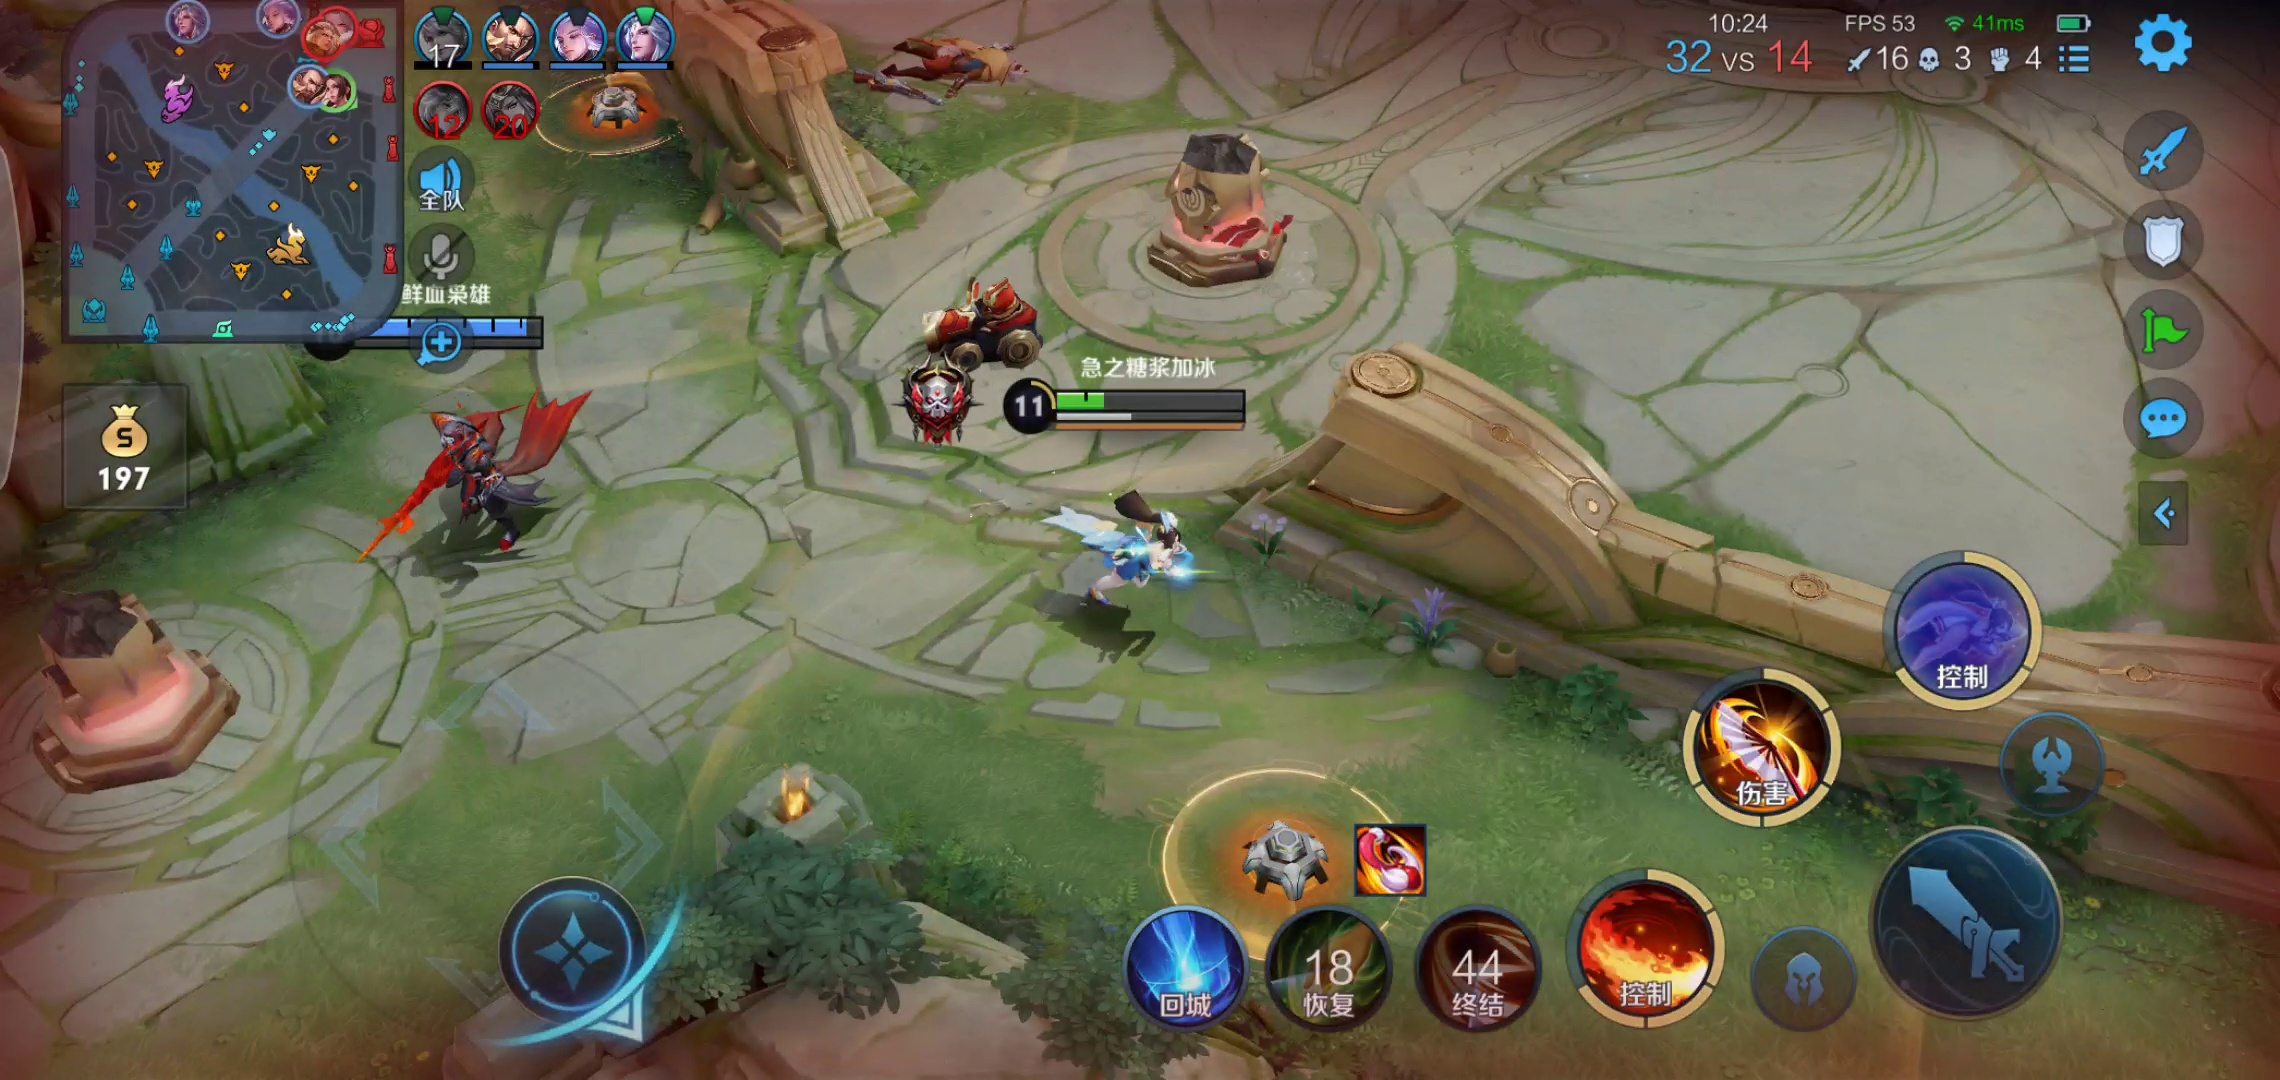hero: (368, 388, 595, 576), (1045, 474, 1221, 621), (855, 28, 1040, 113)
soldier: (910, 275, 1057, 379)
tower: (15, 584, 249, 791), (1139, 126, 1309, 288)
